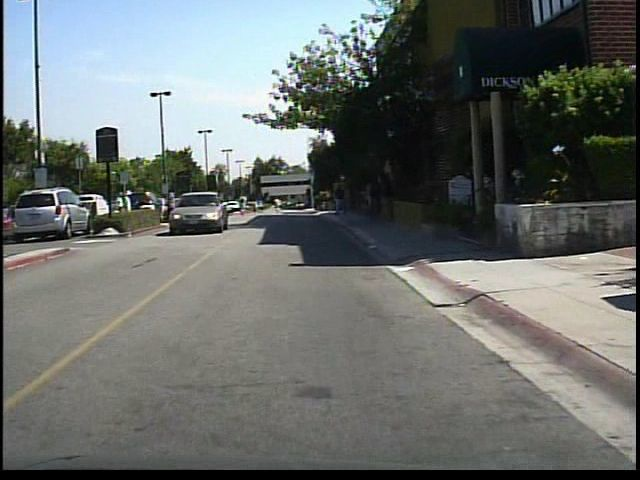person: (332, 177, 349, 218), (123, 186, 137, 229), (113, 189, 128, 229), (162, 185, 177, 225), (237, 189, 250, 218)
